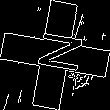N_W: (27, 31, 83, 79)
